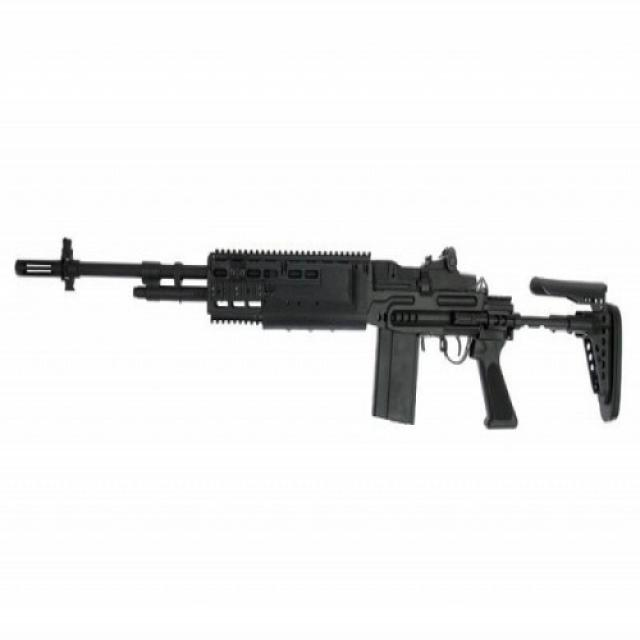Gun: (0, 166, 640, 480)
